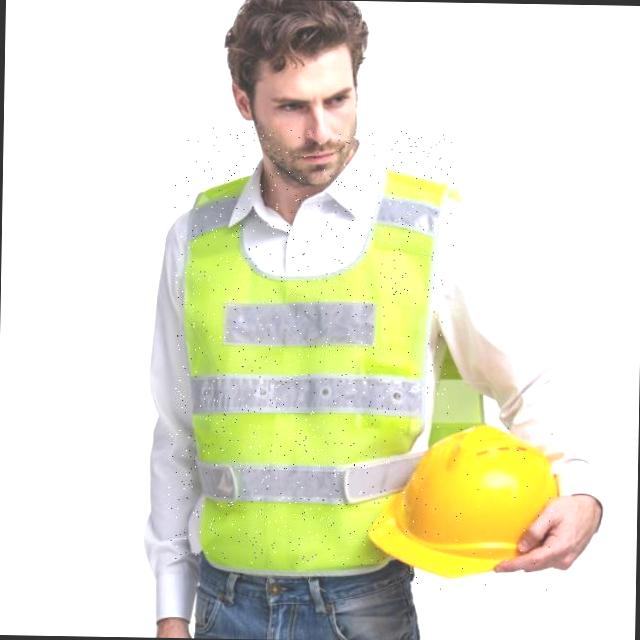helmet: (388, 418, 557, 592)
no-gloves: (497, 488, 603, 580)
no-helmet: (211, 0, 375, 187)
vest: (182, 164, 456, 566)
